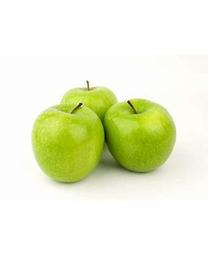apple: (31, 102, 102, 183), (103, 97, 176, 172), (60, 80, 119, 119)
